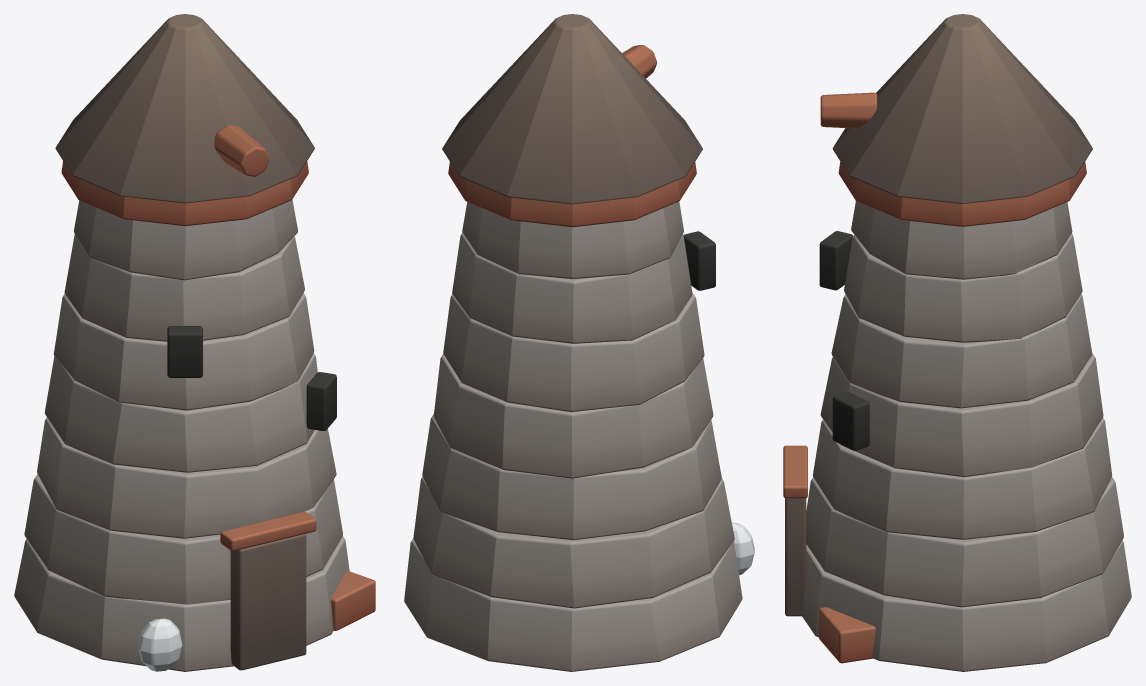
The model's file is windmill.glb.
The picture shows the model from 3 angles, left to right: view 1: azimuth 30°, elevation 25°; view 2: azimuth 150°, elevation 25°; view 3: azimuth 270°, elevation 25°; orthographic projection.
Visible parts, largest first — view 1: windmill; view 2: windmill; view 3: windmill.
Part boxes in pixels (<box>): windmill: <box>14,14,375,671</box>; windmill: <box>404,14,754,671</box>; windmill: <box>783,14,1131,671</box>.
Size of the model in its own units: 4.79 by 9.03 by 4.9.
1 material, 1 textured.
